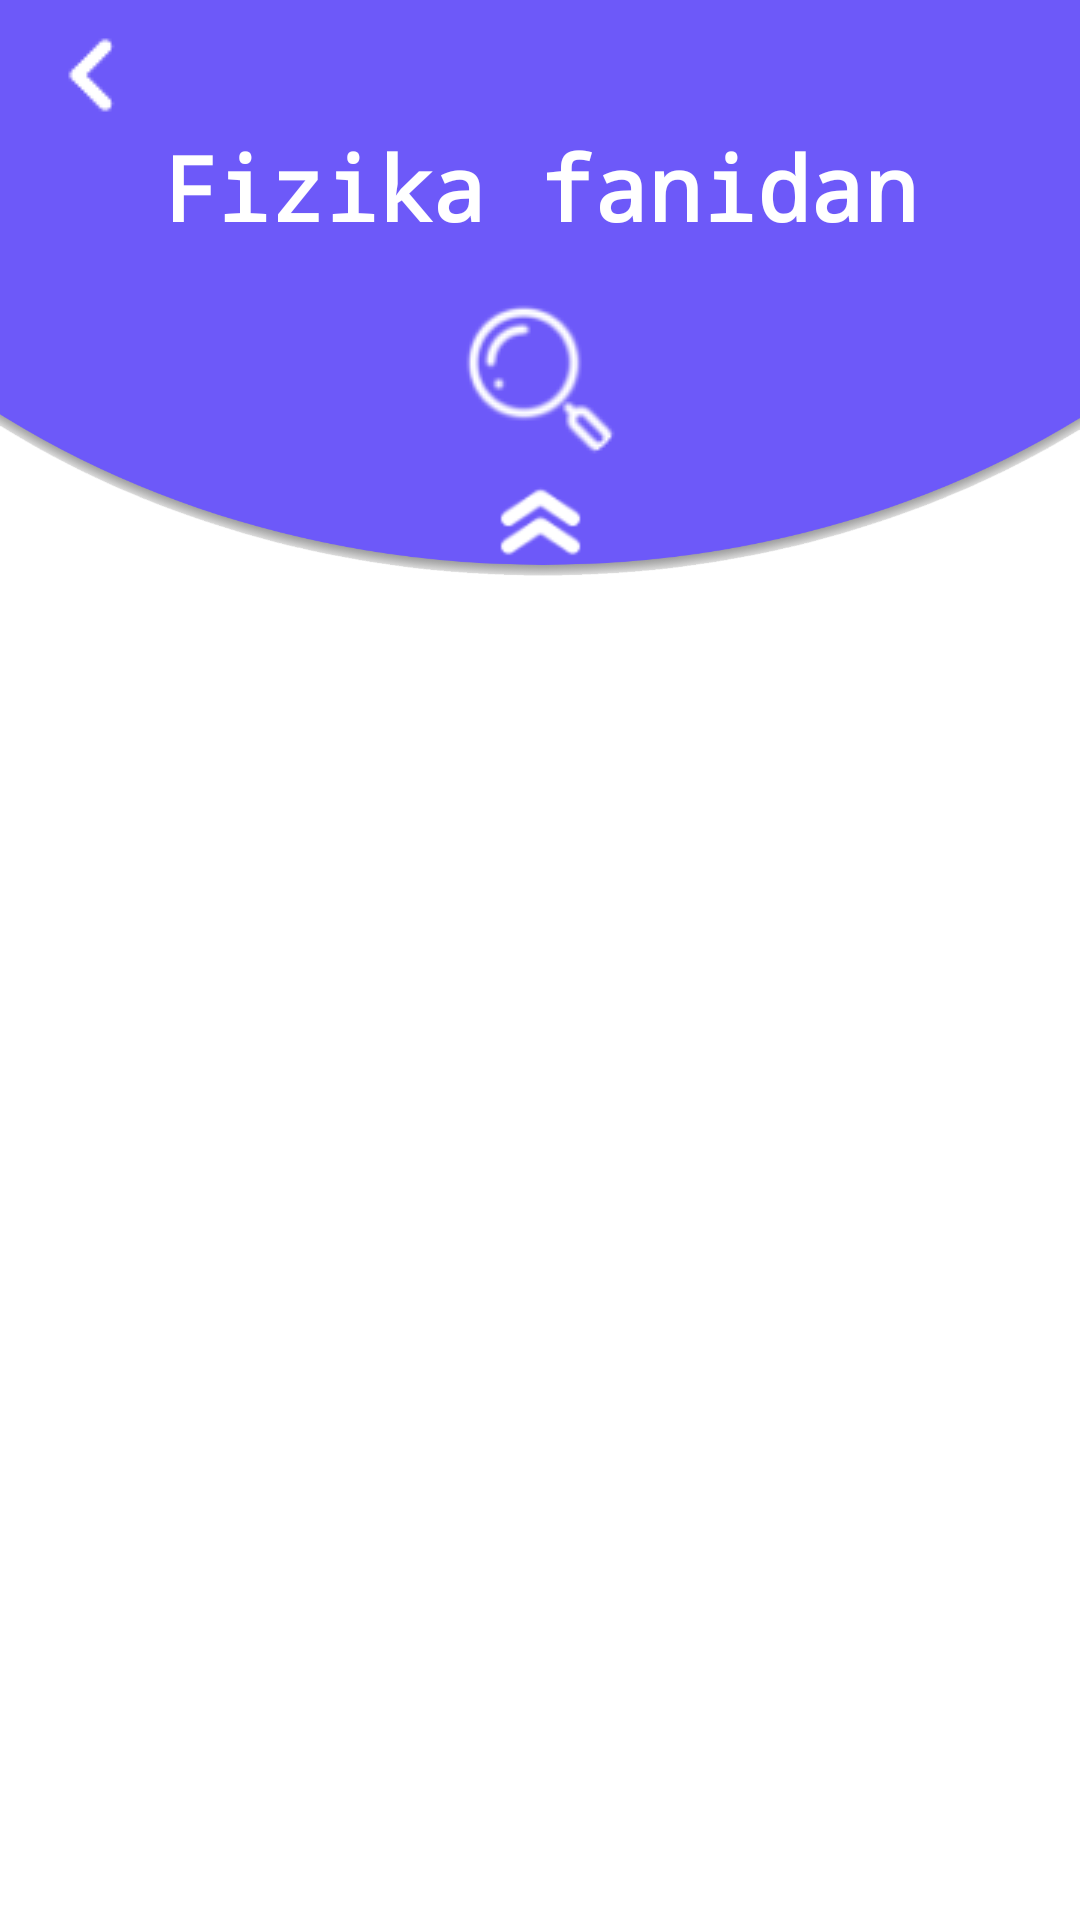

Point at icon controls on the screen. Image size 1080px x 1920px, points as point (x, y).
back: point (90, 75)
